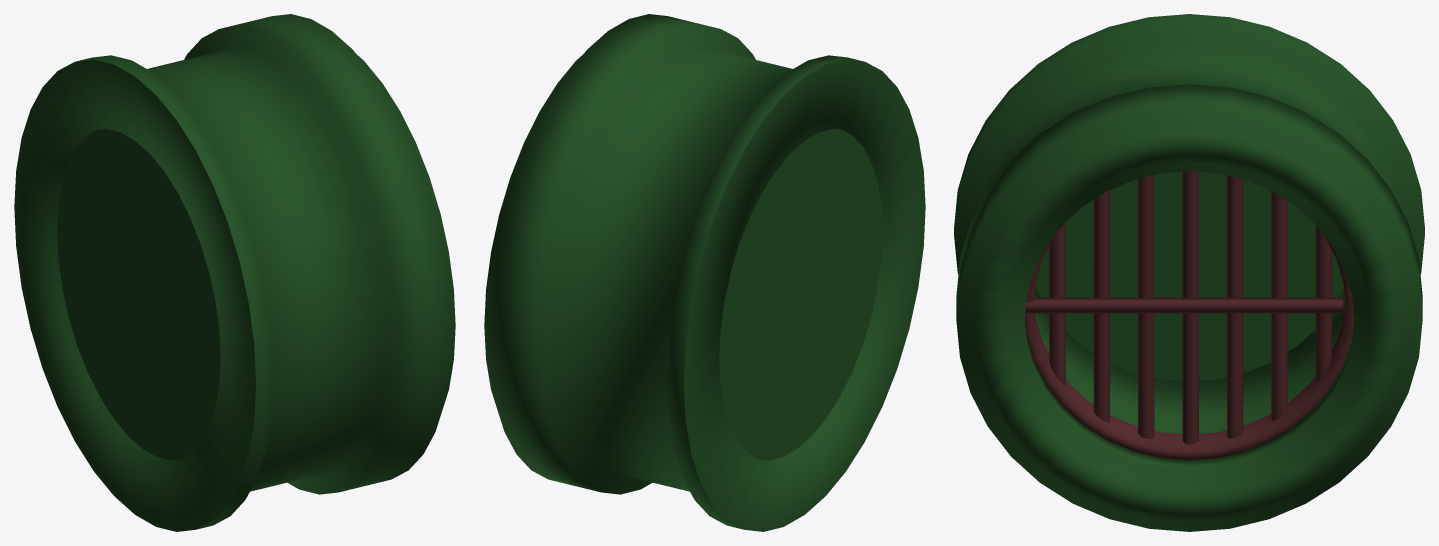
The model's file is Pipe_Entrance.fbx.
The picture shows the model from 3 angles, left to right: view 1: azimuth 30°, elevation 25°; view 2: azimuth 150°, elevation 25°; view 3: azimuth 270°, elevation 25°; orthographic projection. The views are drawn at different scales.
Parts seen in each view (by area): view 1: Pipe_Entrance_Copper; view 2: Pipe_Entrance_Copper; view 3: Pipe_Entrance_Copper.
Boxes of the visible parts, <box> form: Pipe_Entrance_Copper: <box>14,14,455,531</box>; Pipe_Entrance_Copper: <box>484,14,925,531</box>; Pipe_Entrance_Copper: <box>954,14,1424,531</box>.
Size of the model in its own units: 1.97 by 3.94 by 3.94.
